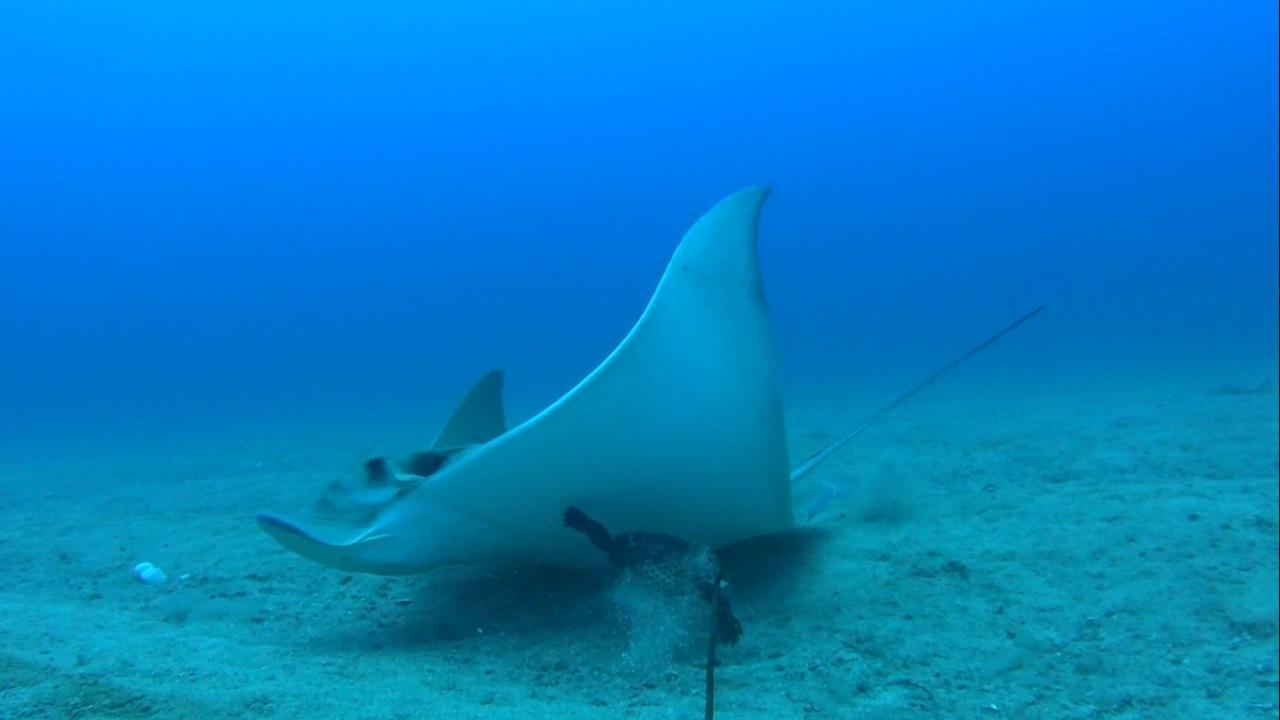myliobatis: (242, 175, 1057, 606)
